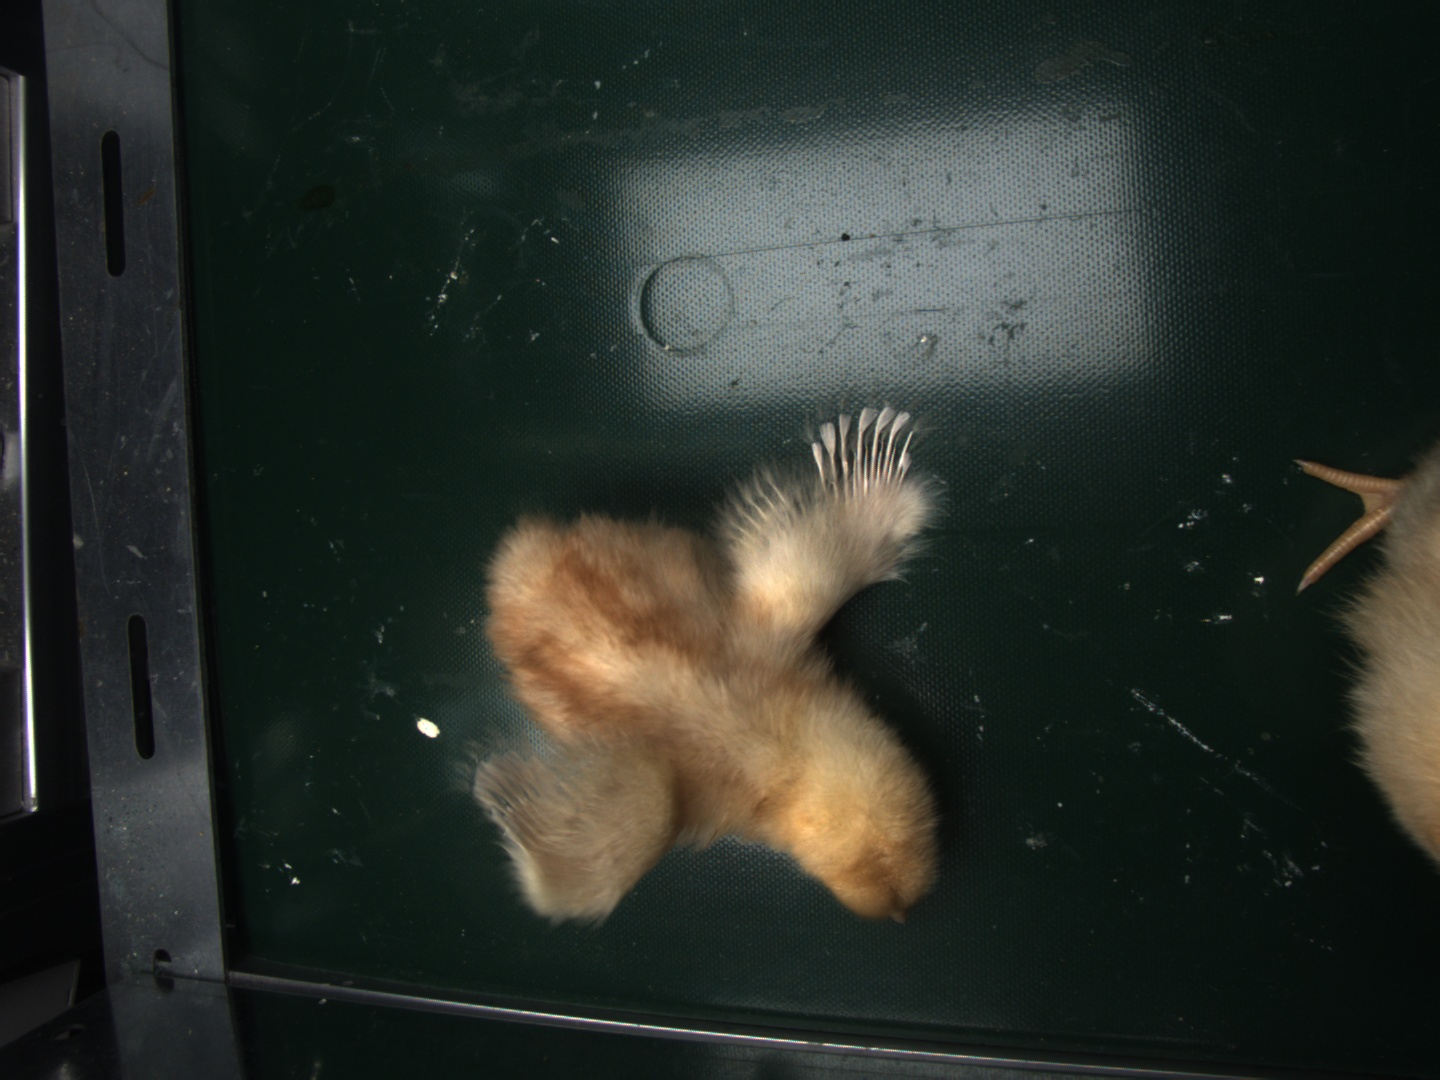female: (813, 410, 912, 486)
